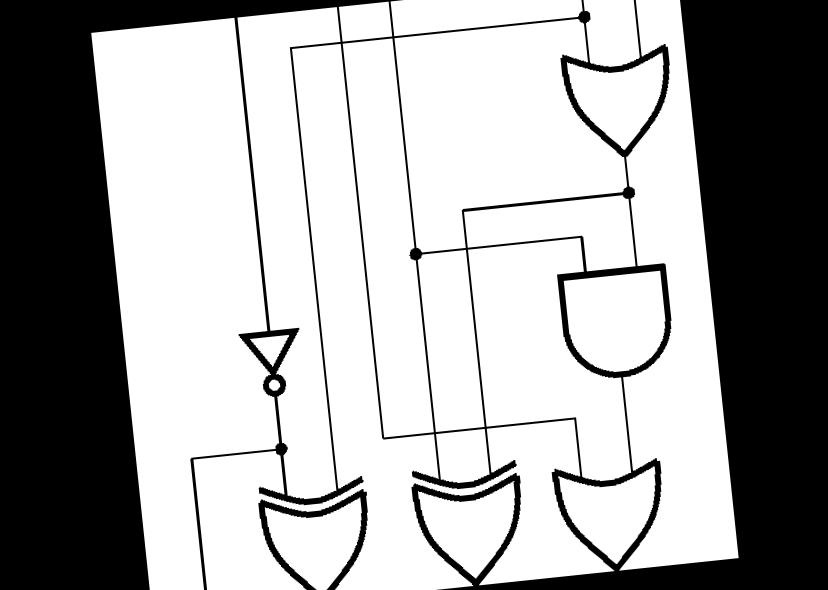and: (544, 244, 684, 392)
not: (232, 313, 312, 408)
or: (552, 32, 688, 178), (542, 444, 677, 576)
xor: (400, 449, 537, 590), (247, 465, 386, 590)
